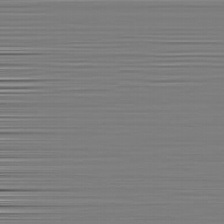cavities: (47, 92, 193, 224)
